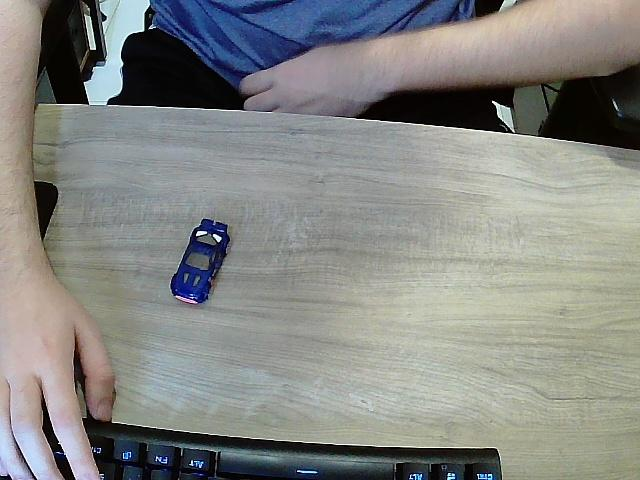Carro: (170, 220, 231, 307)
